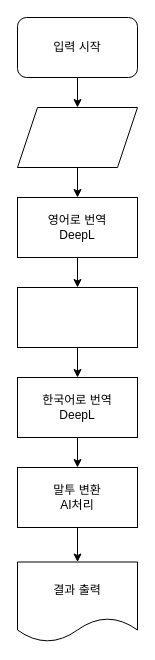
The diagram is 155 pixels wide and 660 high, and some of its shapes have lost their labels. The shapes that lost their labels are listed below. From the top down, each one's box as (x1, y1, x2, y2) in pixels, then its label:
(16, 106, 138, 168): 한국어 prompt
(16, 286, 138, 348): AI 처리 OpenAI API
